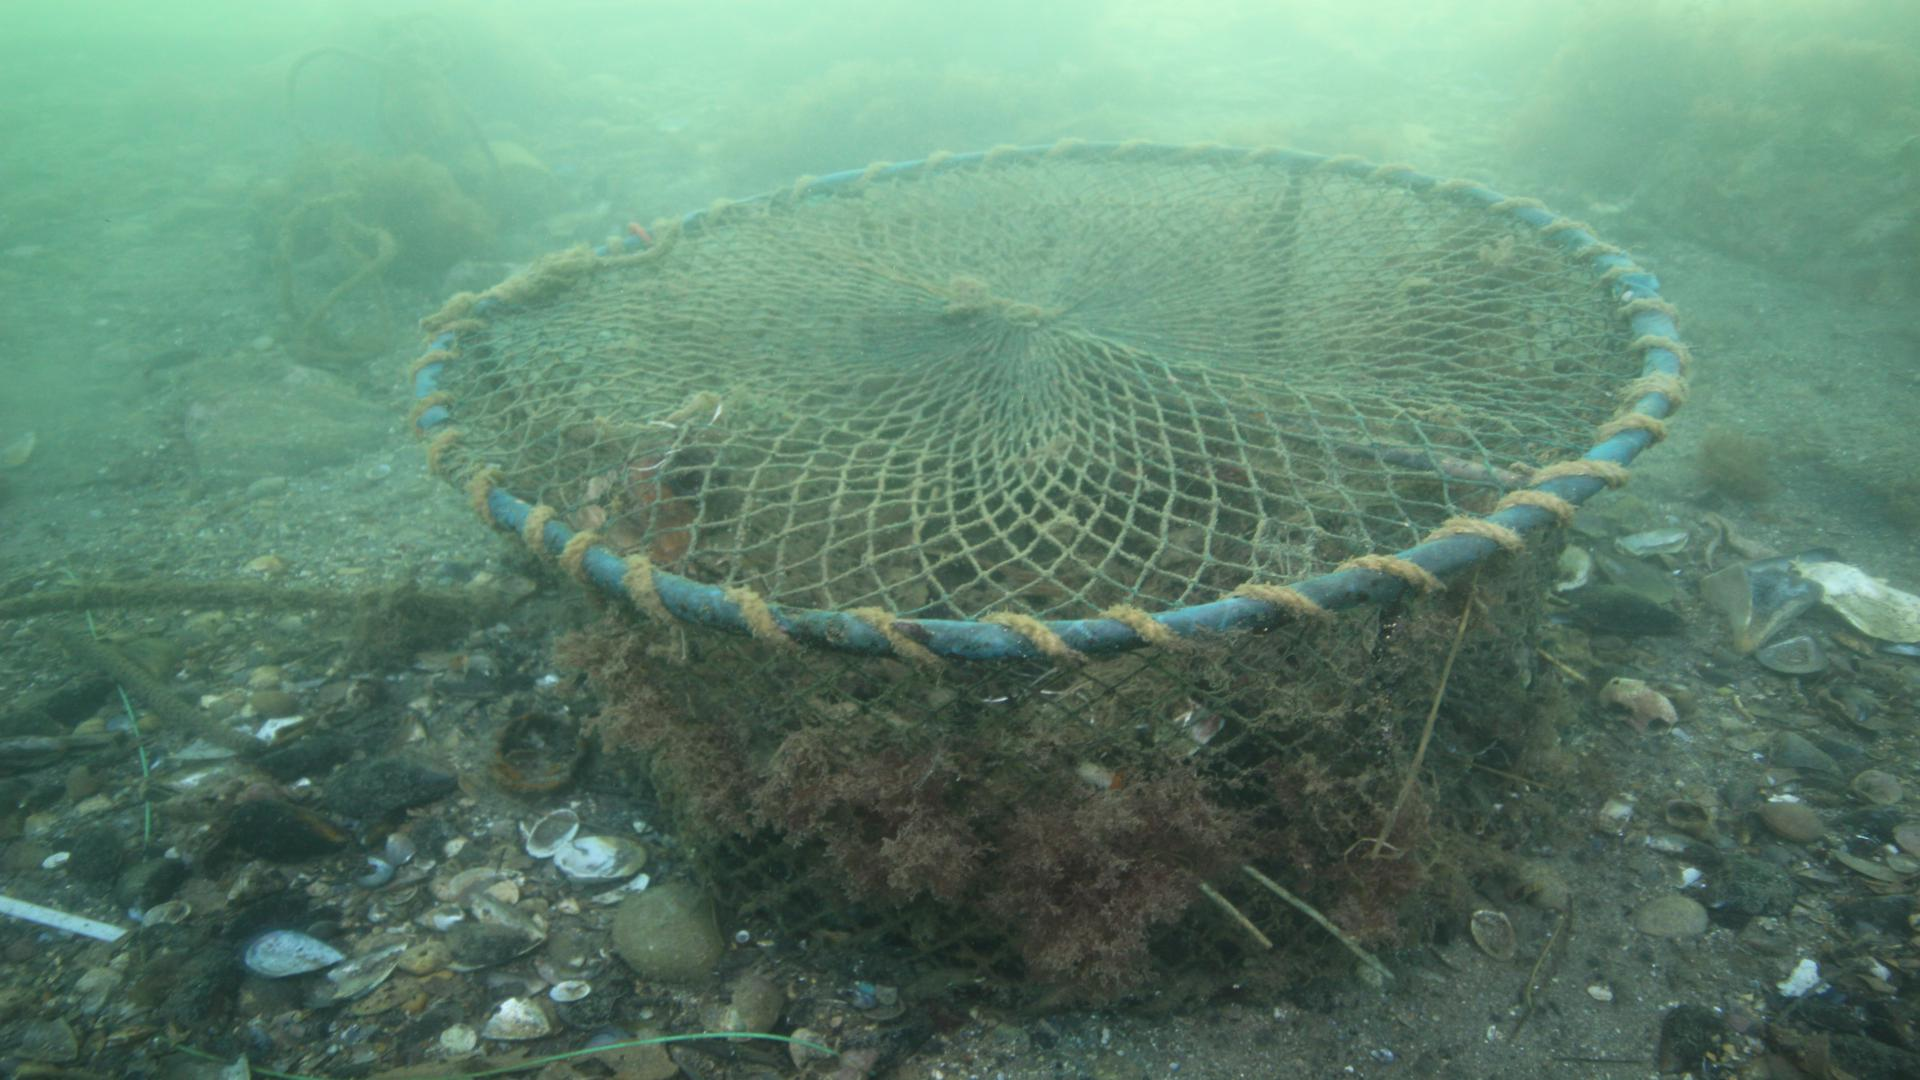circular fish trap: (406, 136, 1691, 1015)
